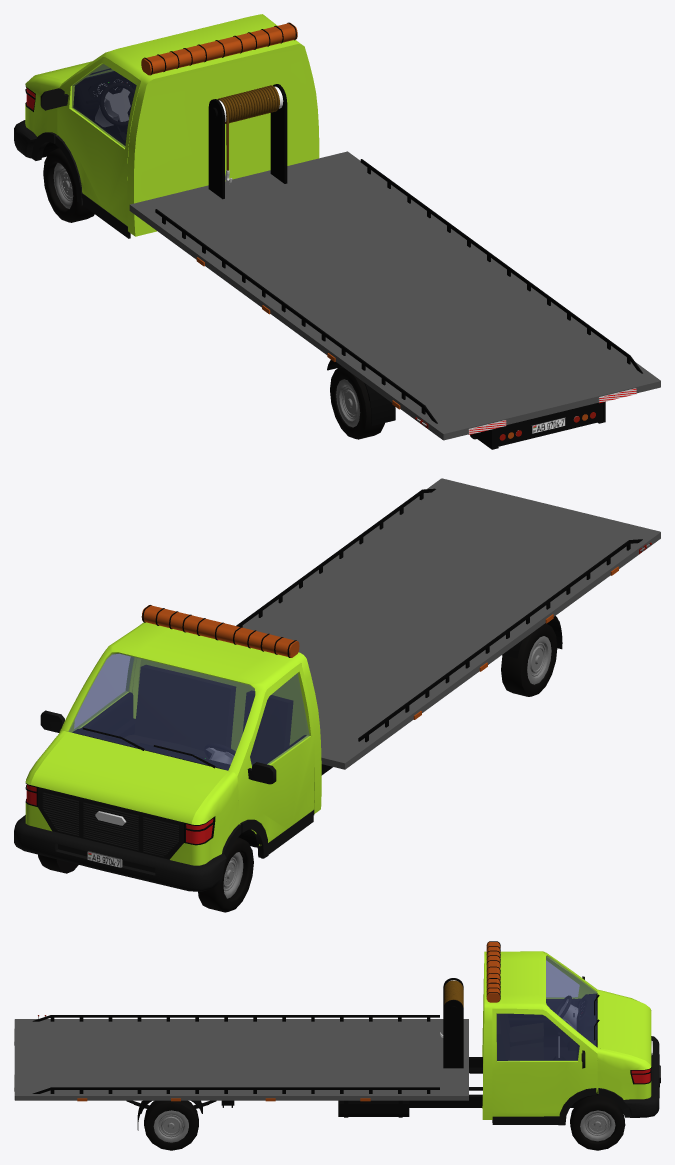
Rendered from for_unity_tow_truck.fbx.
3 views of the same model, one above another, from view 1: azimuth 30°, elevation 25°; view 2: azimuth 150°, elevation 25°; view 3: azimuth 270°, elevation 25° (orthographic). The views are drawn at different scales.
Visible parts, largest first — view 1: платформа, кабина, левая дверь, Шасси, перекладины, опоры лебёдки, мигалка, колесо переднее правое2, крюк; view 2: платформа, кабина, левая дверь, капот, сиденья, правая дверь, Шасси, перекладины, мигалка, колесо переднее правое2; view 3: платформа, кабина, правая дверь, Шасси, капот, перекладины, колесо переднее правое, левая дверь, сиденья, опоры лебёдки, бак, мигалка (+1 smaller).
Boxes of the visible parts, x1,y1,x2,y2 form: платформа: (129, 151, 660, 440); кабина: (14, 14, 319, 236); левая дверь: (40, 57, 140, 238); Шасси: (196, 257, 605, 449); перекладины: (155, 159, 642, 423); опоры лебёдки: (208, 84, 287, 199); мигалка: (141, 22, 297, 75); колесо переднее правое2: (43, 148, 94, 222); крюк: (217, 85, 279, 183); платформа: (242, 478, 660, 769); кабина: (14, 622, 321, 891); левая дверь: (237, 663, 314, 858); капот: (30, 732, 228, 824); сиденья: (120, 665, 293, 766); правая дверь: (40, 654, 136, 739); Шасси: (321, 566, 618, 775); перекладины: (236, 488, 642, 742); мигалка: (141, 605, 299, 657); колесо переднее правое2: (198, 837, 253, 912); платформа: (14, 1019, 468, 1101); кабина: (482, 951, 659, 1119); правая дверь: (492, 1008, 597, 1125); Шасси: (77, 1057, 575, 1150); капот: (597, 991, 651, 1066); перекладины: (32, 1015, 439, 1093); колесо переднее правое: (570, 1095, 625, 1150); левая дверь: (507, 956, 597, 1047); сиденья: (496, 1013, 543, 1059); опоры лебёдки: (443, 978, 463, 1068); бак: (338, 1100, 409, 1117); мигалка: (486, 941, 500, 1002).
Bounding box in the file's own units: 92.72 × 309 × 80.1.
Materials: 142 (2 with a texture image).
